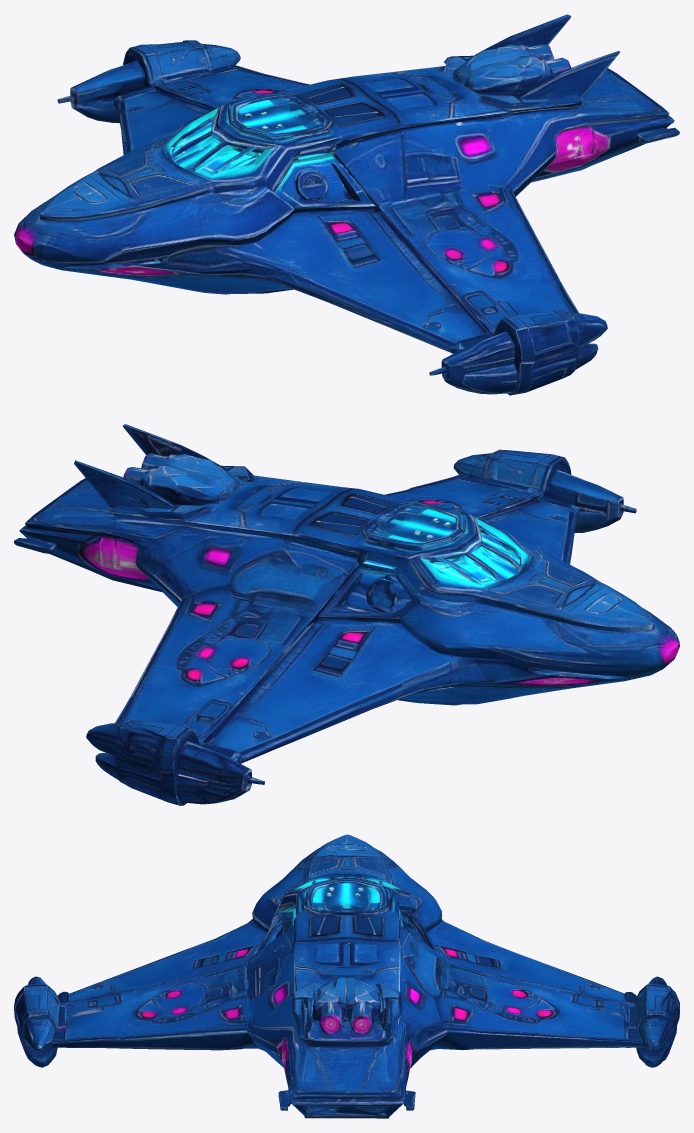
The model's file is nation-c-carrier.glb.
3 renders of one model, top to bottom at view 1: azimuth 30°, elevation 25°; view 2: azimuth 150°, elevation 25°; view 3: azimuth 270°, elevation 25°, orthographic. The views are drawn at different scales.
Bounding box in the file's own units: 1.71 × 0.4233 × 1.9.
Materials: 1 (1 with a texture image).
